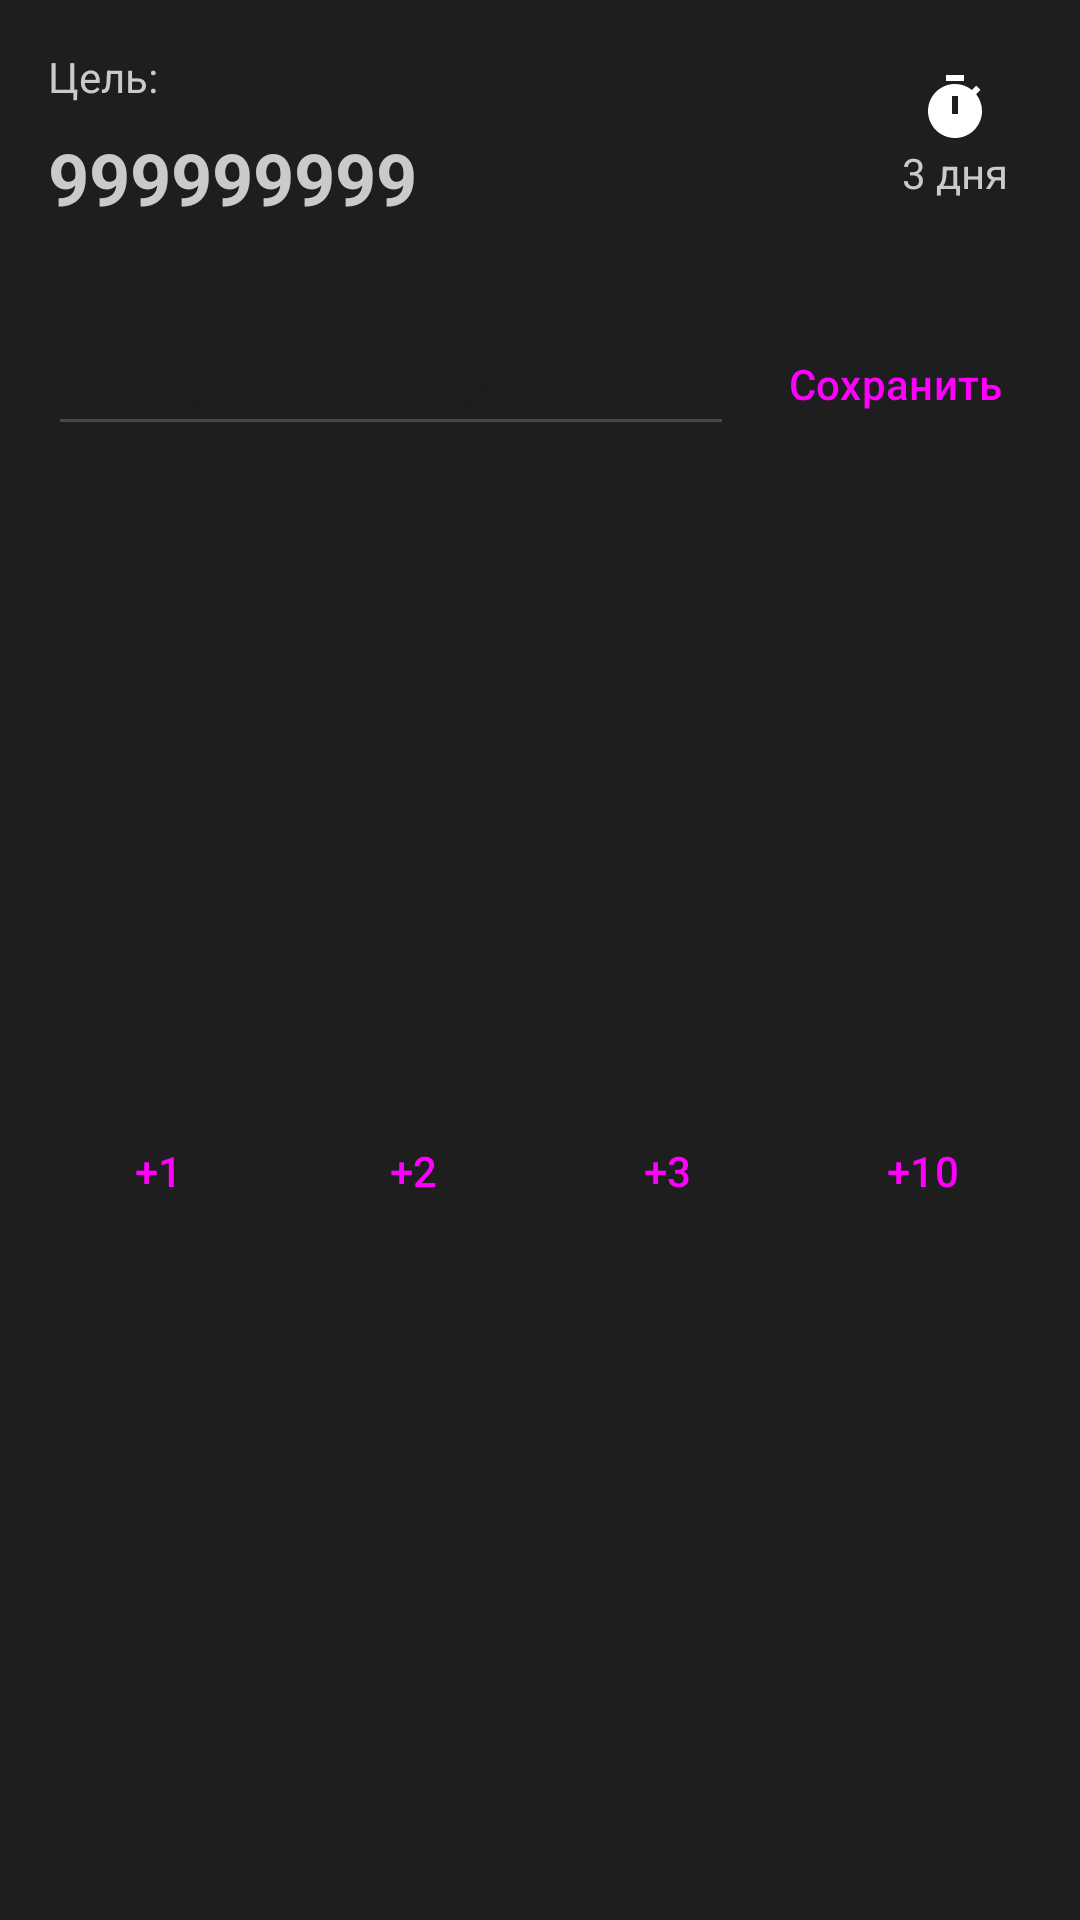

Named icons in this screenshot (1080px x 1920px) and their centers, (x=x, y=y):
timer: (x=955, y=106)
